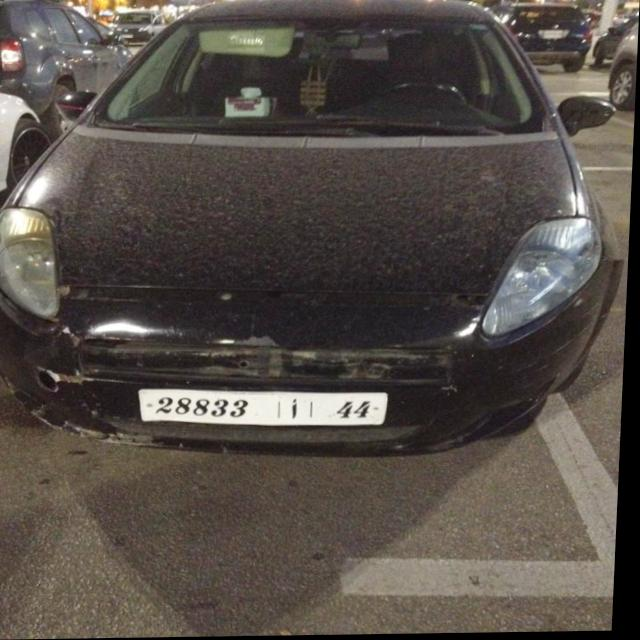License-Plate: (143, 389, 391, 427)
